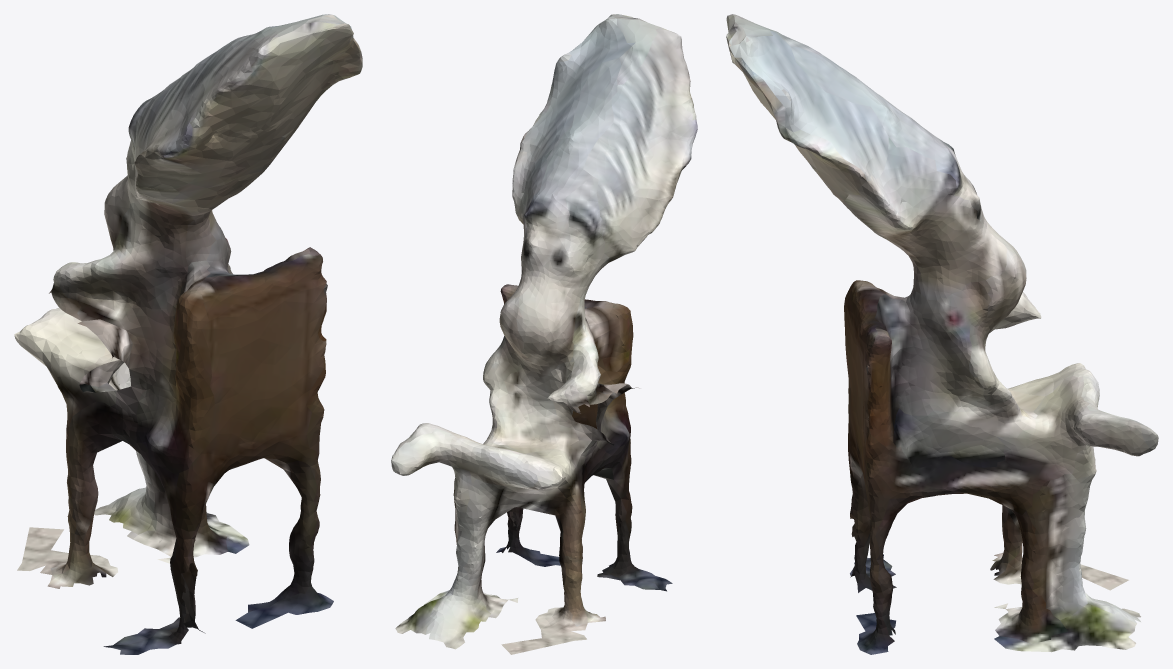
Rendered from choco.glb.
The picture shows the model from 3 angles, left to right: view 1: azimuth 30°, elevation 25°; view 2: azimuth 150°, elevation 25°; view 3: azimuth 270°, elevation 25°; orthographic projection. The views are drawn at different scales.
Visible parts, largest first — view 1: choco_frito; view 2: choco_frito; view 3: choco_frito.
Part boxes in pixels (x1=…): choco_frito: x1=14, y1=14, x2=362, y2=654; choco_frito: x1=391, y1=14, x2=697, y2=654; choco_frito: x1=726, y1=14, x2=1158, y2=654.
Size of the model in its own units: 0.572 by 1.6 by 1.07.
Materials: 1 (1 with a texture image).
